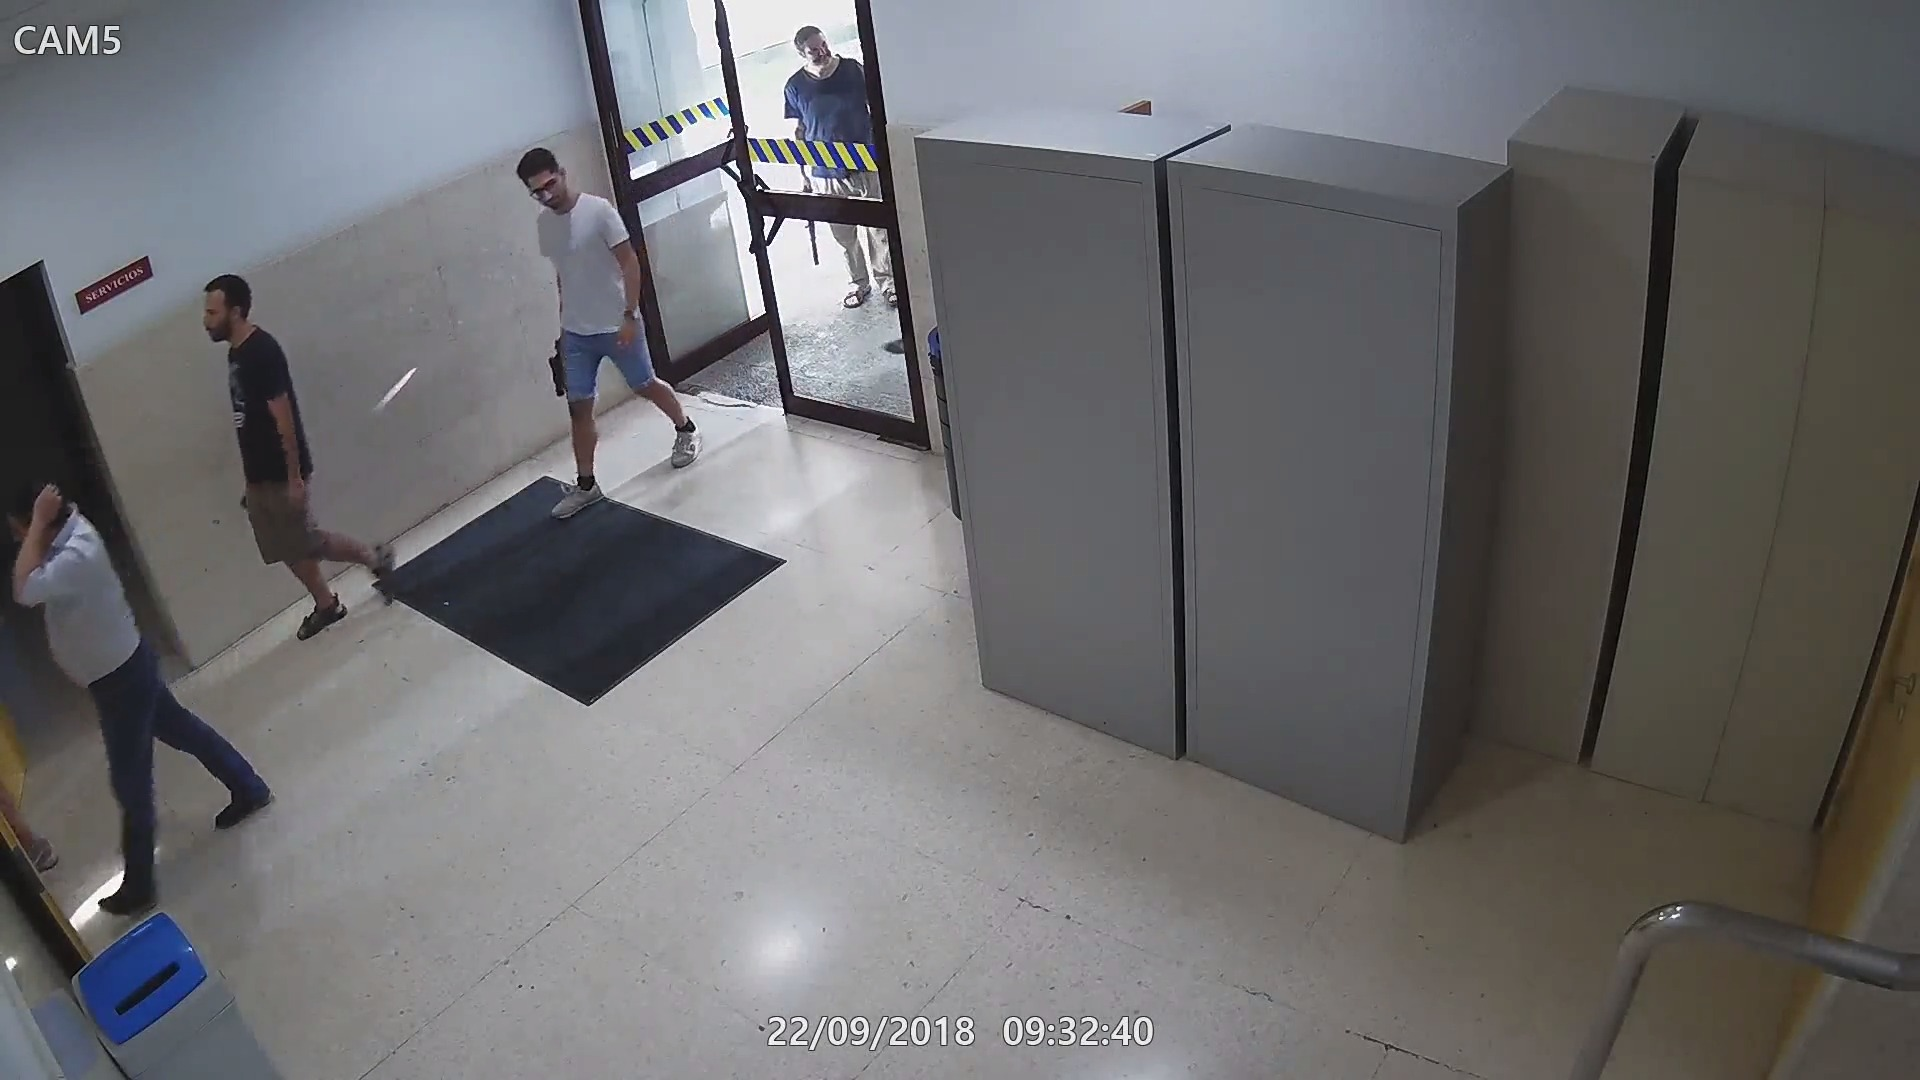Short_rifle: (796, 167, 825, 266), (546, 324, 572, 407)
